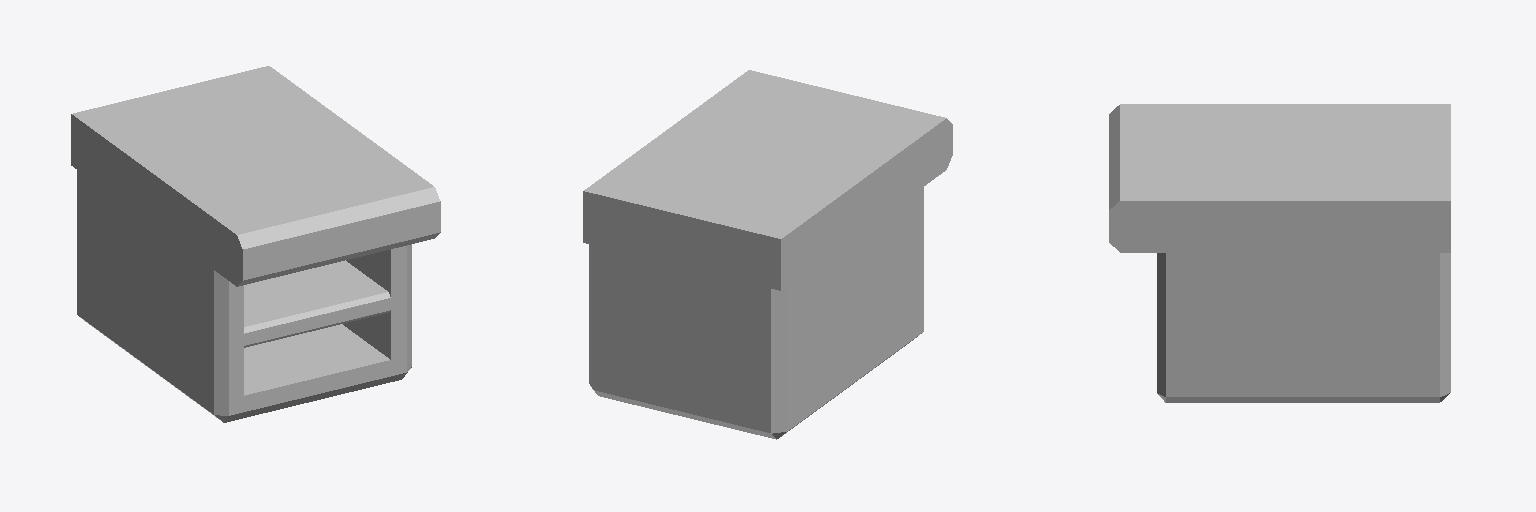
File: countertop_straight_B_short.obj
3 views of the same model, side by side, from view 1: azimuth 30°, elevation 25°; view 2: azimuth 150°, elevation 25°; view 3: azimuth 270°, elevation 25° (orthographic).
Visible parts, largest first — view 1: countertop_straight_B_short; view 2: countertop_straight_B_short; view 3: countertop_straight_B_short.
Boxes of the visible parts, x1=… form: countertop_straight_B_short: x1=71, y1=66, x2=440, y2=422; countertop_straight_B_short: x1=583, y1=70, x2=952, y2=439; countertop_straight_B_short: x1=1109, y1=104, x2=1450, y2=402.
Size of the model in its own units: 1 by 1 by 1.5.